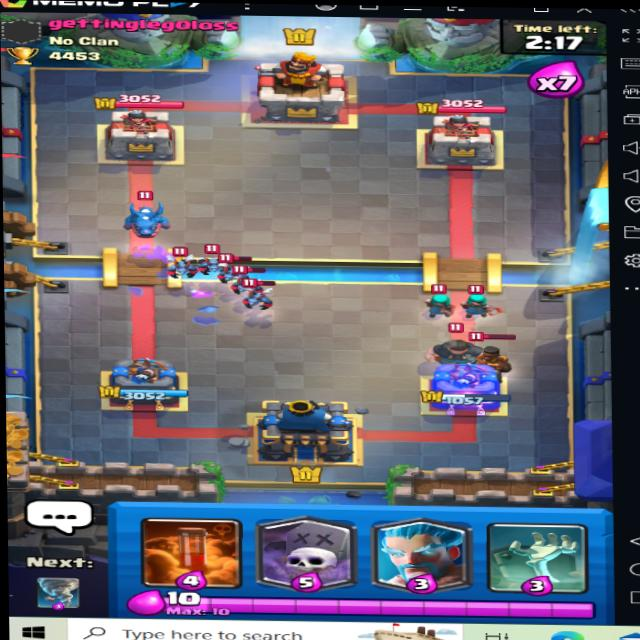electro-dragon: (113, 190, 179, 239)
minion: (219, 255, 253, 285), (229, 266, 263, 294), (167, 250, 198, 278), (244, 282, 275, 309), (198, 248, 228, 275)
ram-rider: (461, 330, 508, 375)
rascal-boy: (422, 324, 488, 364)
rascal-girl: (414, 284, 458, 315), (460, 281, 498, 313)
